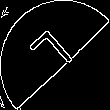L_SE: (27, 26, 83, 84)
